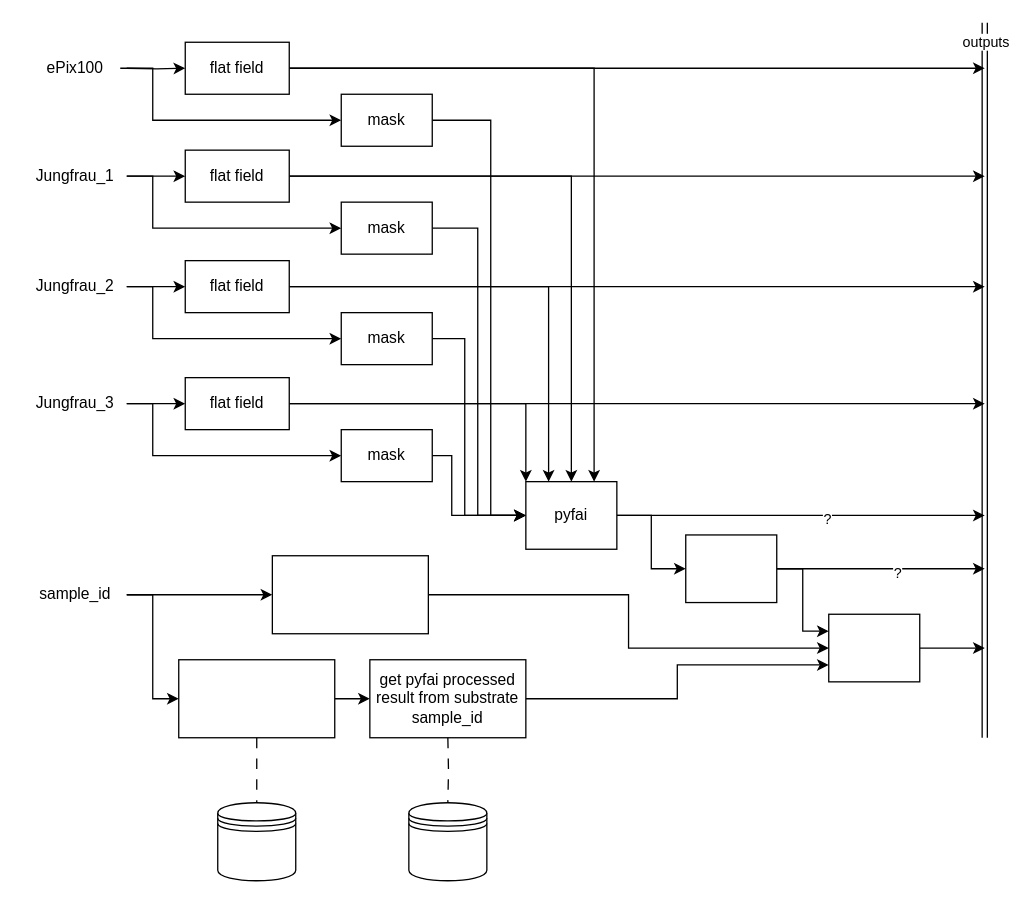
Image size: 1031x903. Some labels were removed from this diagram. The shapes that lost their labels are listed below. From the top down, each one's centre as x and y in pixels, then its label:
pixel 730 568: reduce
pixel 349 594: find out chemical_formula for this sample_id
pixel 873 647: PDFgetX3
pixel 256 698: find out substrate sample_id for this sample_id
